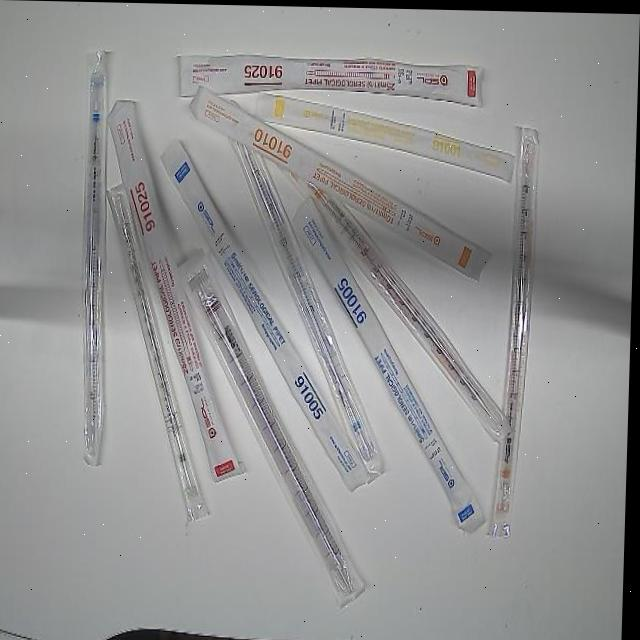Serelogical Pipet 1 mL - Sealed: (253, 88, 518, 184)
Serelogical Pipet 10 mL - Sealed: (269, 135, 522, 445), (490, 118, 541, 538)
Serelogical Pipet 2 mL - Sealed: (101, 186, 221, 521)
Serelogical Pipet 25 mL - Sealed: (100, 95, 259, 484), (177, 53, 486, 107)
Serelogical Pipet 5 mL - Sealed: (151, 135, 382, 491), (280, 189, 498, 533), (218, 125, 402, 477), (77, 43, 115, 470)
Serelogical Pipet 50 mL - Sealed: (169, 244, 382, 610)
